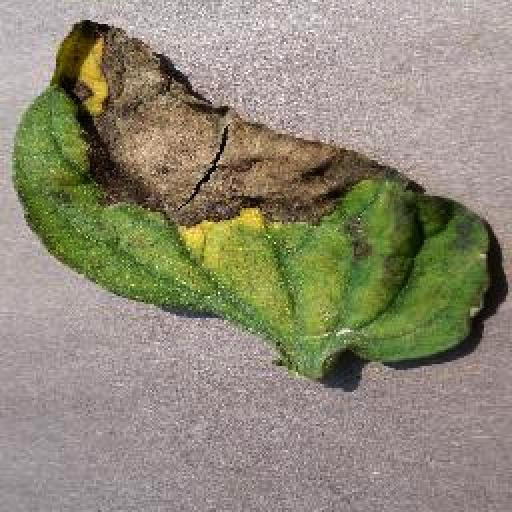disease_tomato: (12, 18, 490, 364)
